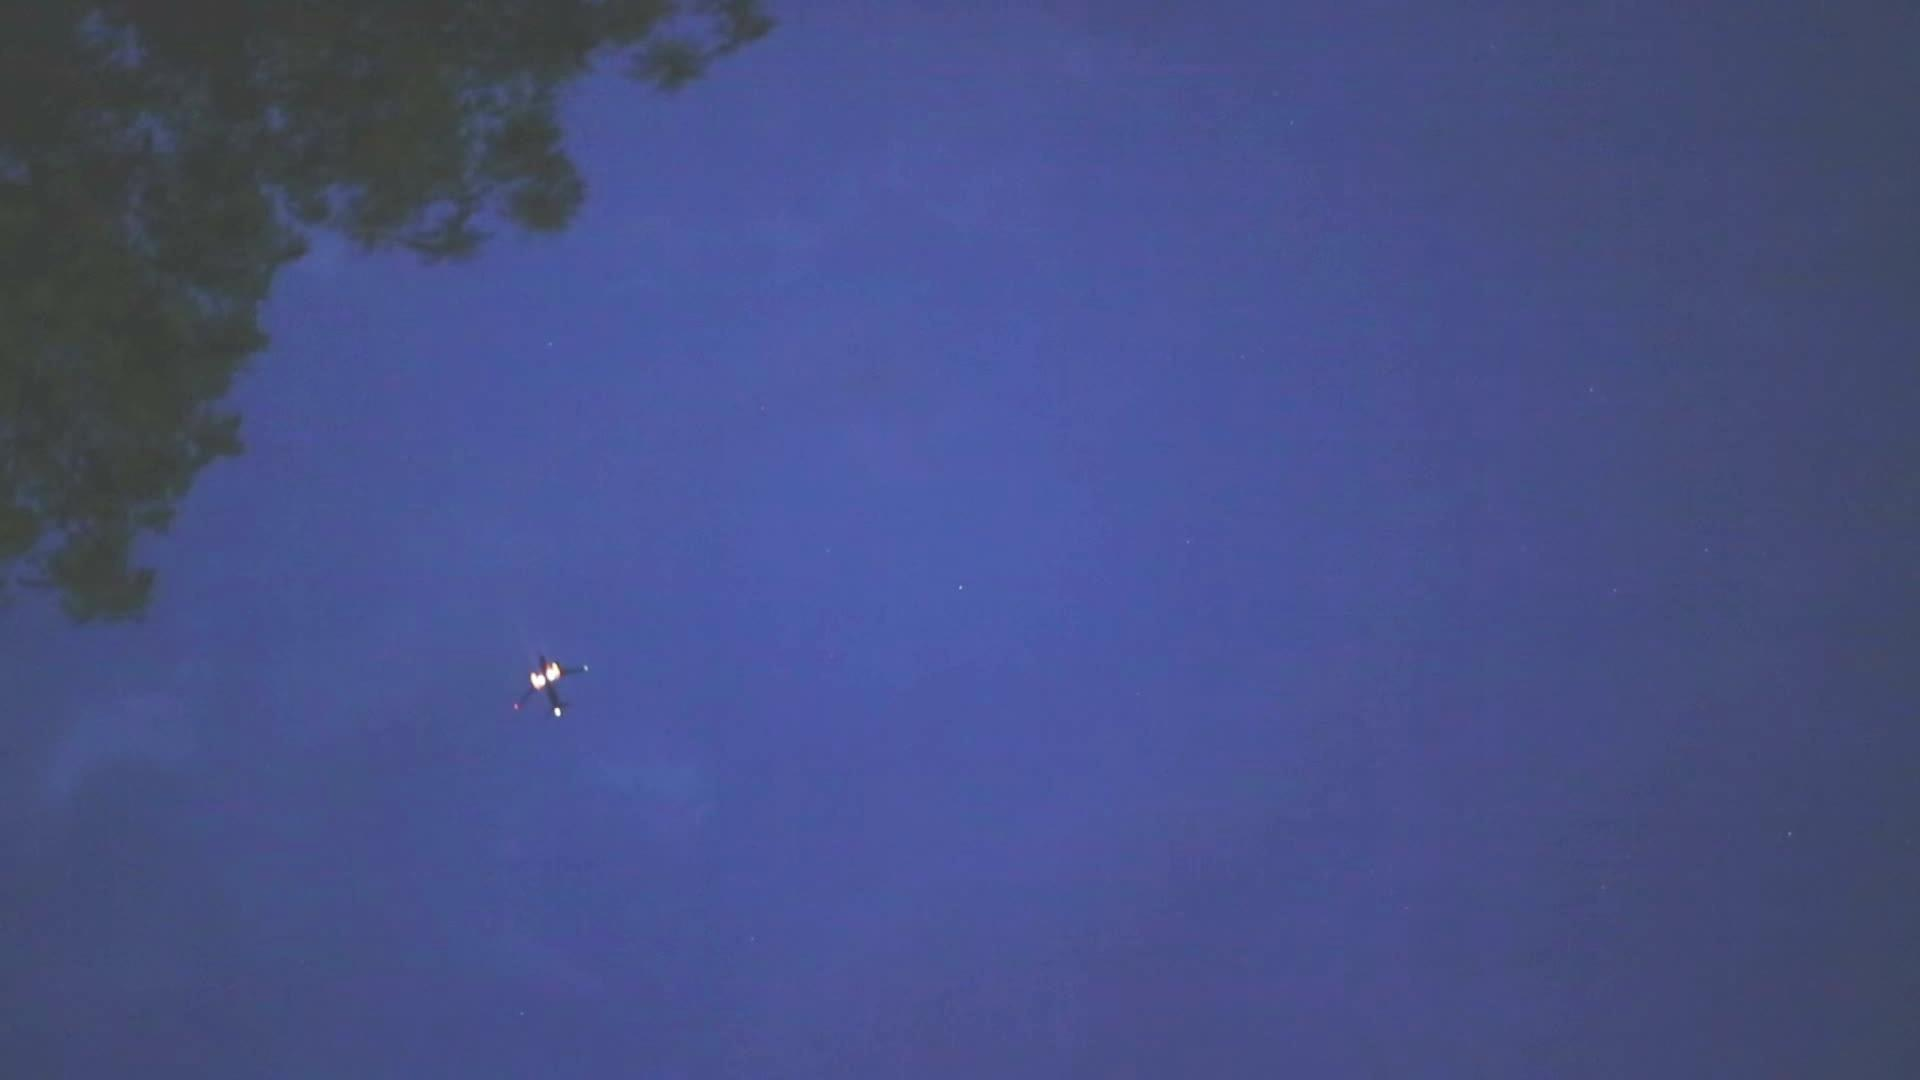Plane: (468, 637, 625, 732)
